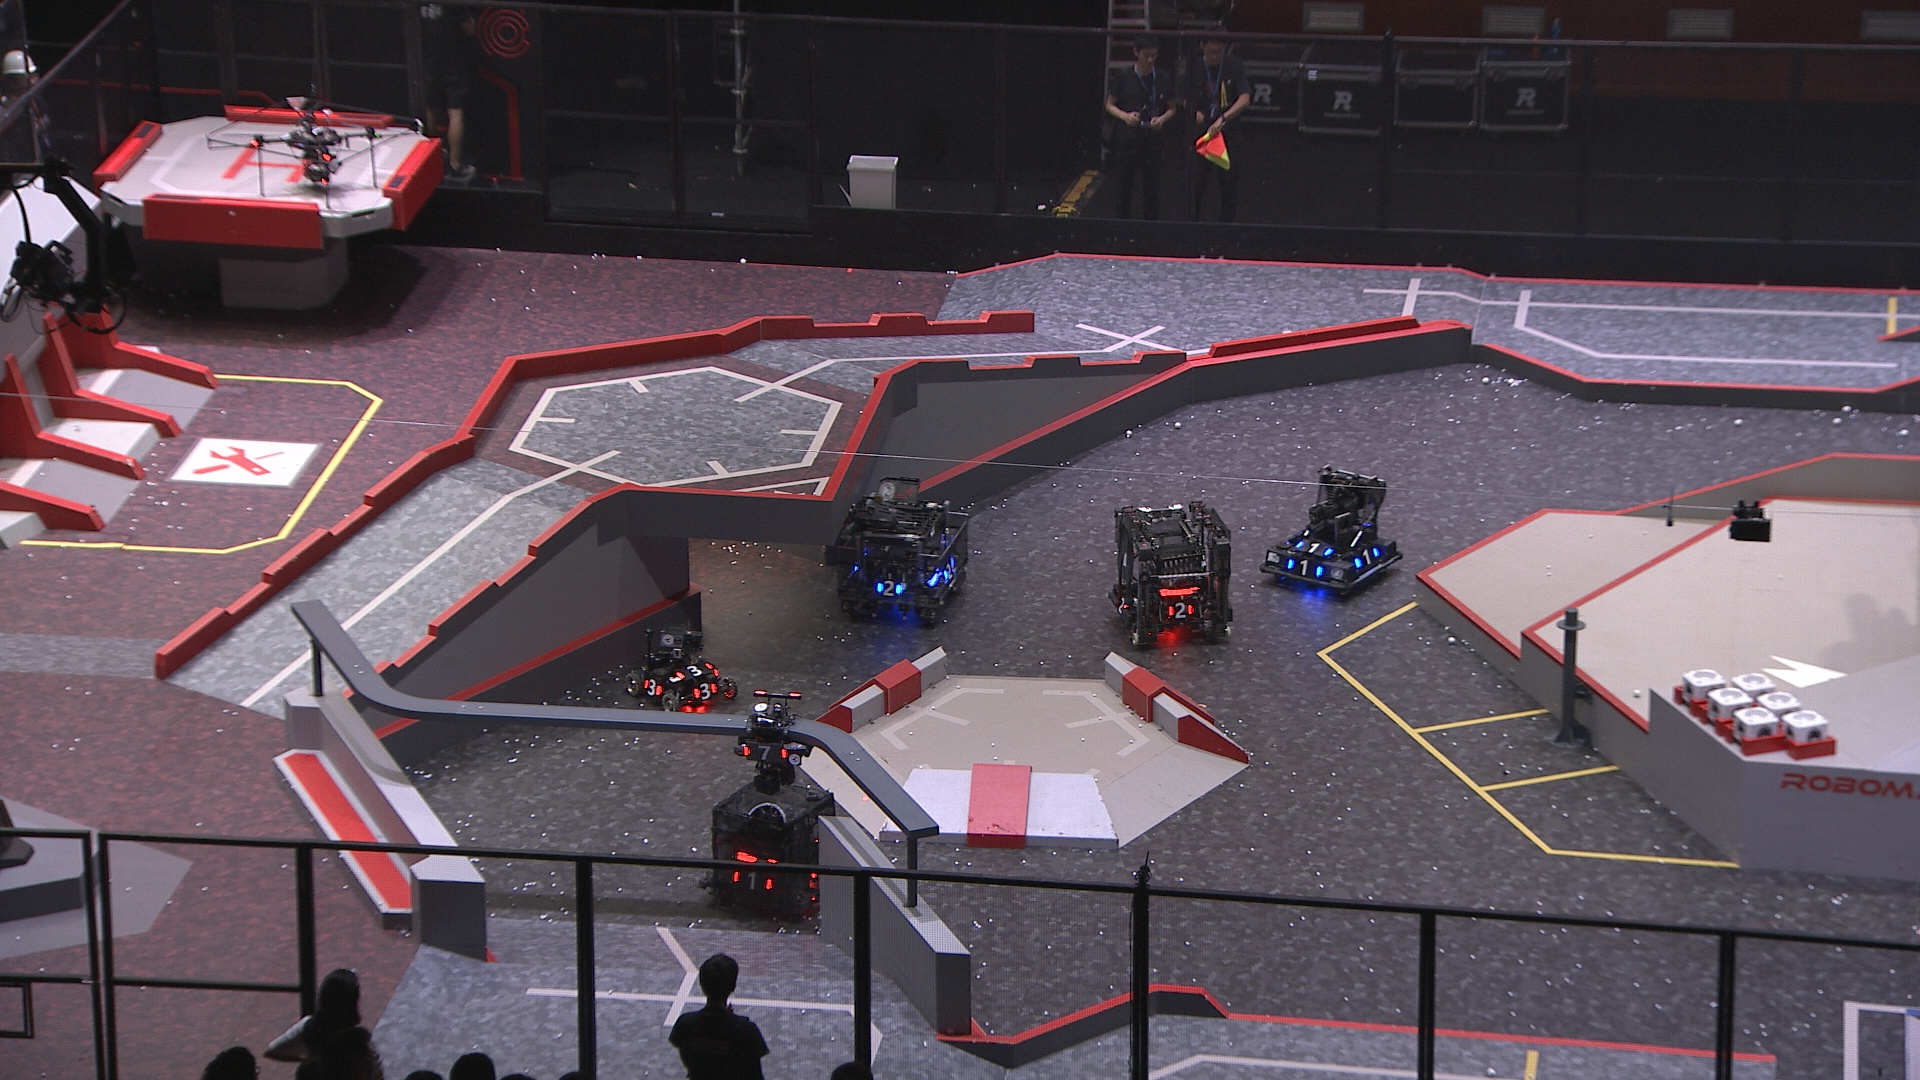armor: (737, 741, 789, 765), (732, 869, 775, 891), (1294, 538, 1335, 560), (675, 659, 713, 679), (1284, 560, 1327, 578), (1352, 545, 1381, 568), (876, 578, 905, 600), (1166, 599, 1196, 618), (641, 675, 665, 699), (692, 680, 717, 702), (1112, 589, 1131, 615), (940, 556, 957, 583)
car: (831, 476, 973, 629), (704, 770, 845, 920), (1262, 460, 1408, 599), (1109, 498, 1233, 647), (624, 622, 744, 713)
watcher: (731, 688, 814, 793)
